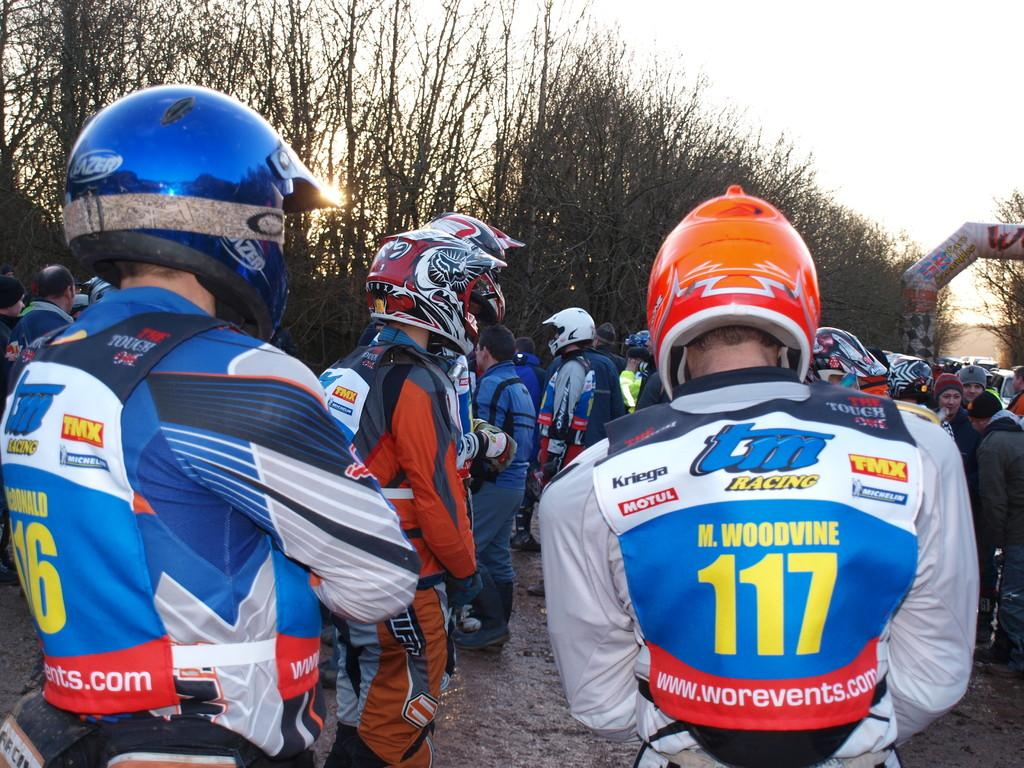helmet: (62, 84, 341, 346), (646, 184, 821, 402), (365, 229, 508, 356), (408, 212, 526, 326), (796, 326, 888, 407), (880, 350, 936, 404), (542, 307, 596, 357), (81, 272, 115, 305)
nohelmet: (35, 263, 77, 319), (473, 323, 518, 374), (966, 389, 1004, 440), (932, 372, 966, 419), (0, 273, 28, 323), (958, 364, 987, 404), (592, 321, 616, 352), (626, 346, 650, 373), (1011, 365, 1024, 397)
